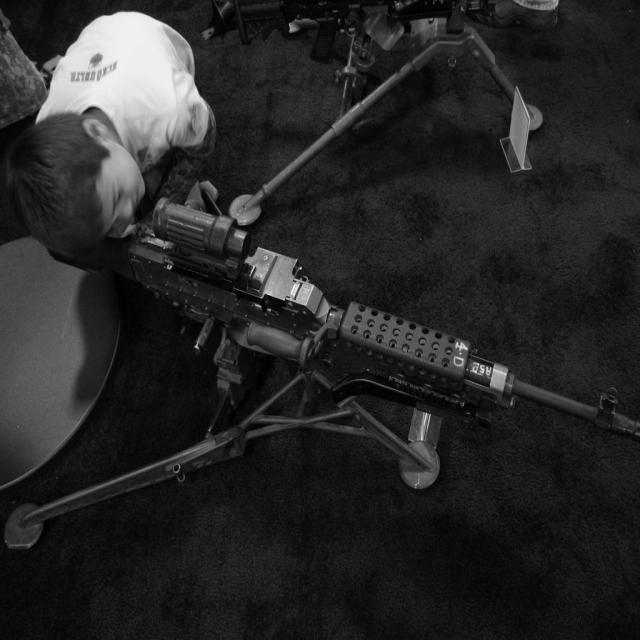weapon: (0, 182, 640, 544)
